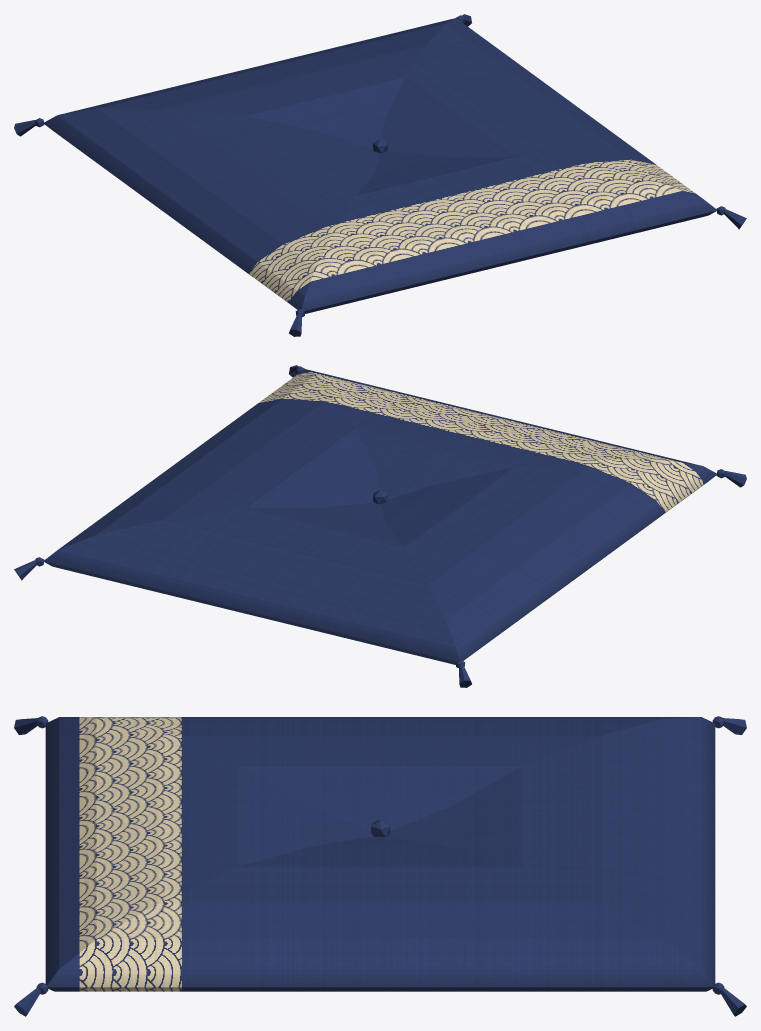
File: 02A_Zabuton_Izq.fbx
The picture shows the model from 3 angles, top to bottom: view 1: azimuth 30°, elevation 25°; view 2: azimuth 150°, elevation 25°; view 3: azimuth 270°, elevation 25°; orthographic projection. The views are drawn at different scales.
Visible parts, largest first — view 1: LAY_02A_Zabuton_Indigo; view 2: LAY_02A_Zabuton_Indigo; view 3: LAY_02A_Zabuton_Indigo.
Boxes of the visible parts, x1=… form: LAY_02A_Zabuton_Indigo: x1=14, y1=14, x2=746, y2=336; LAY_02A_Zabuton_Indigo: x1=14, y1=365, x2=746, y2=687; LAY_02A_Zabuton_Indigo: x1=14, y1=716, x2=746, y2=1016.
Size of the model in its own units: 0.603 by 0.06 by 0.6459.
